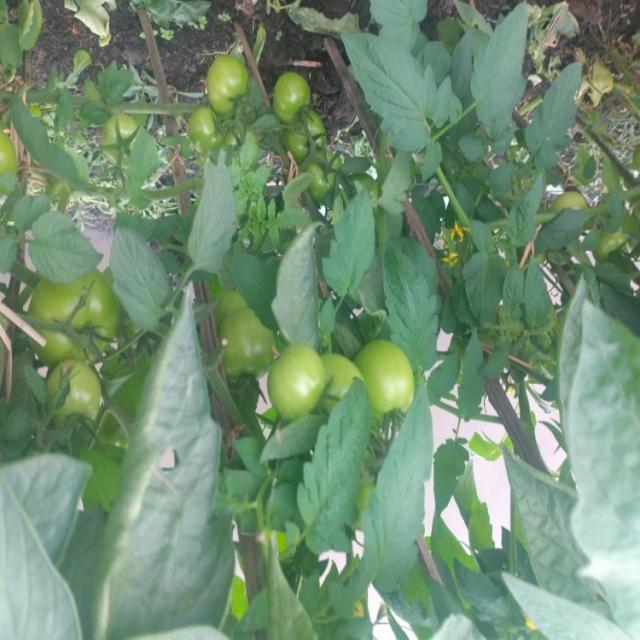tomato: (27, 270, 120, 357), (363, 331, 423, 432), (264, 340, 330, 423), (218, 307, 277, 385), (271, 67, 324, 131), (47, 362, 103, 419), (317, 347, 367, 406), (201, 54, 251, 112), (184, 108, 242, 156), (93, 109, 145, 160), (281, 111, 332, 161), (547, 181, 592, 223), (1, 124, 25, 182)
